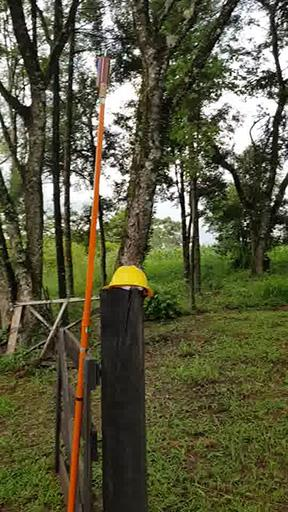Detector_Tensao_Contato: (95, 46, 110, 87)
Vara_Manobra: (66, 85, 108, 512)
